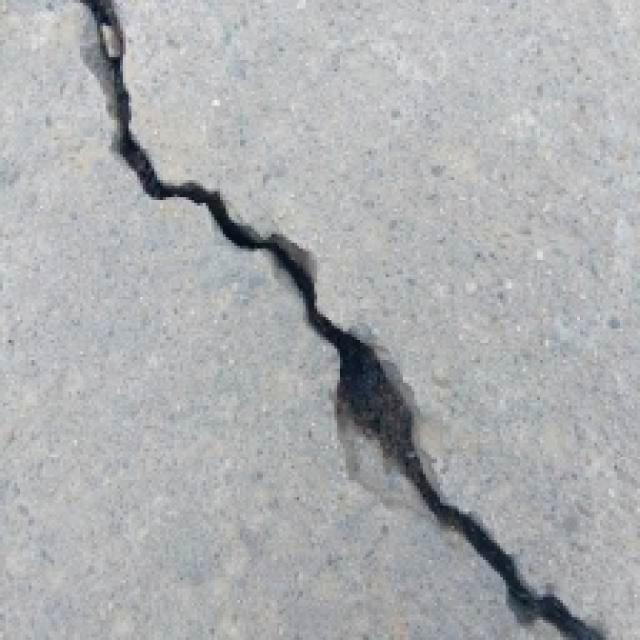SurfaceCrack: (72, 6, 626, 640)
